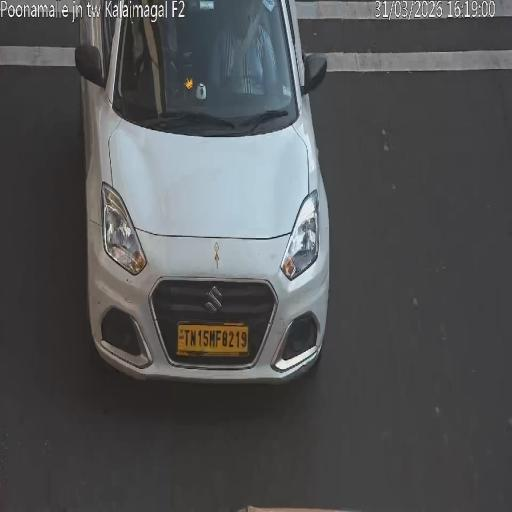person_with_seatbelt: (224, 10, 264, 92), (139, 12, 167, 74)
